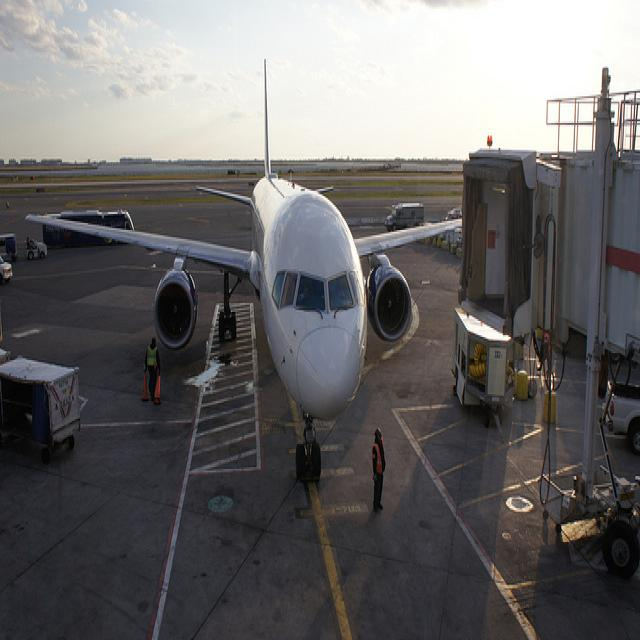Vehicle: (0, 348, 82, 461), (603, 382, 640, 456), (384, 202, 425, 227), (25, 239, 47, 260), (1, 255, 12, 283)
